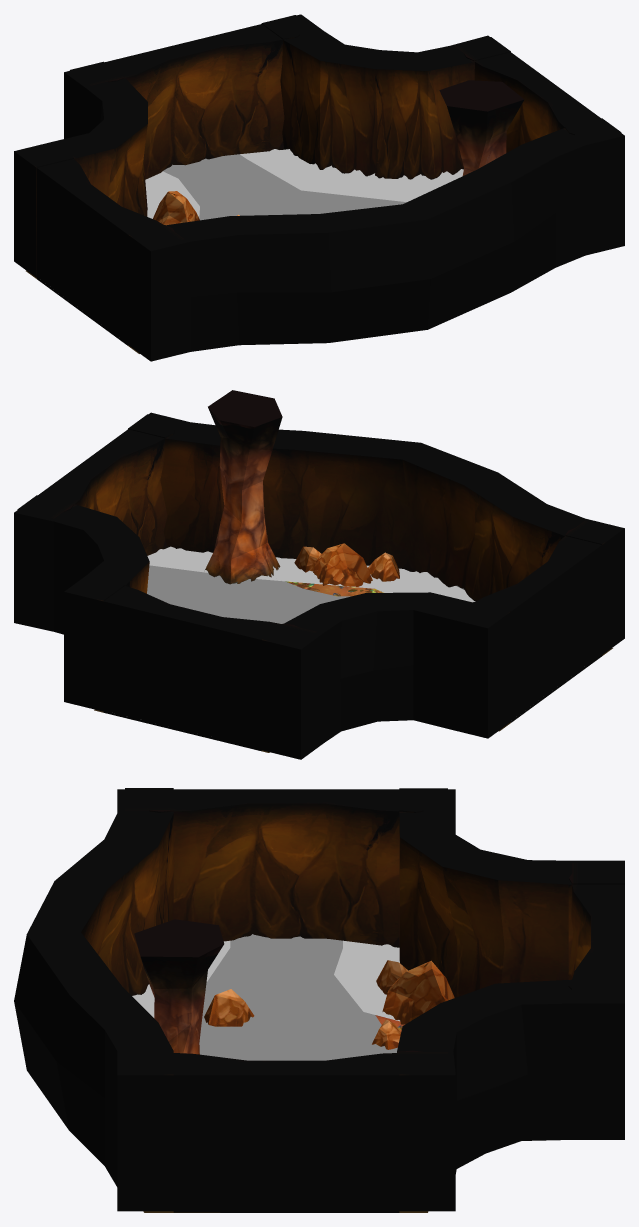
File: Dungeon_062_RoadT_002.fbx
3 views of the same model, one above another, from view 1: azimuth 30°, elevation 25°; view 2: azimuth 150°, elevation 25°; view 3: azimuth 270°, elevation 25° (orthographic). The views are drawn at different scales.
Parts seen in each view (by area): view 1: Dun_062_Road_002_wall, Dun_062_Door_002 (×3), Dun_062_RoadT_002_Nav, Dun_062_Road_002_shadow, Dungeon_062_Object_04_Pillar, Dun_062_Object_100; view 2: Dun_062_Road_002_wall, Dun_062_Door_002 (×3), Dungeon_062_Object_04_Pillar, Dun_062_RoadT_002_Nav, Dun_062_Road_002_shadow, Dun_062_Object_100, Dun_062_Road_002_ground; view 3: Dun_062_Road_002_wall, Dun_062_Door_002 (×3), Dun_062_RoadT_002_Nav, Dungeon_062_Object_04_Pillar, Dun_062_Road_002_shadow, Dun_062_Object_100, Dungeon_062_Object_02_Rock, Dungeon_062_Object_01_Rock.
Part boxes in pixels (<box>): Dun_062_Road_002_wall: <box>14,14,624,361</box>; Dun_062_Door_002 (×3): <box>17,15,621,345</box>; Dun_062_RoadT_002_Nav: <box>163,154,406,220</box>; Dun_062_Road_002_shadow: <box>145,149,463,218</box>; Dungeon_062_Object_04_Pillar: <box>439,80,524,175</box>; Dun_062_Object_100: <box>153,191,199,225</box>; Dun_062_Road_002_wall: <box>14,412,624,759</box>; Dun_062_Door_002 (×3): <box>17,414,621,751</box>; Dungeon_062_Object_04_Pillar: <box>205,390,282,584</box>; Dun_062_RoadT_002_Nav: <box>147,565,350,623</box>; Dun_062_Road_002_shadow: <box>147,546,475,602</box>; Dun_062_Object_100: <box>294,543,399,586</box>; Dun_062_Road_002_ground: <box>94,582,612,752</box>; Dun_062_Road_002_wall: <box>14,789,624,1211</box>; Dun_062_Door_002 (×3): <box>125,788,624,1212</box>; Dun_062_RoadT_002_Nav: <box>199,934,397,1060</box>; Dungeon_062_Object_04_Pillar: <box>134,919,224,1054</box>; Dun_062_Road_002_shadow: <box>132,940,399,1021</box>; Dun_062_Object_100: <box>376,960,454,1024</box>; Dungeon_062_Object_02_Rock: <box>204,989,254,1026</box>; Dungeon_062_Object_01_Rock: <box>372,1019,400,1049</box>.
Bounding box in the file's own units: 9 × 2.96 × 8.13.
